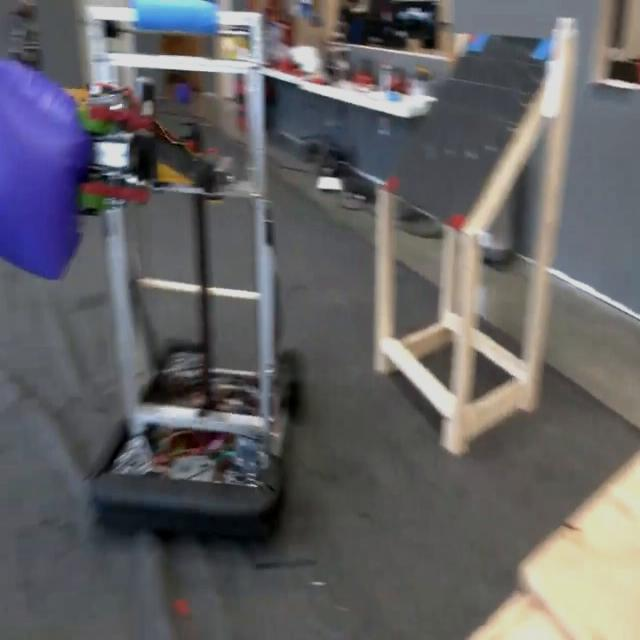frc_cube: (0, 53, 100, 284)
